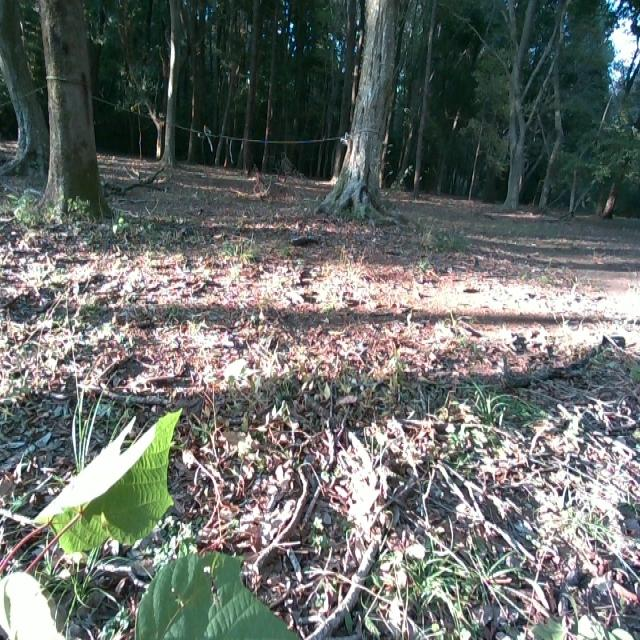tree: (37, 0, 114, 225), (332, 0, 398, 237), (0, 0, 55, 177), (501, 0, 536, 220), (161, 0, 189, 171)
